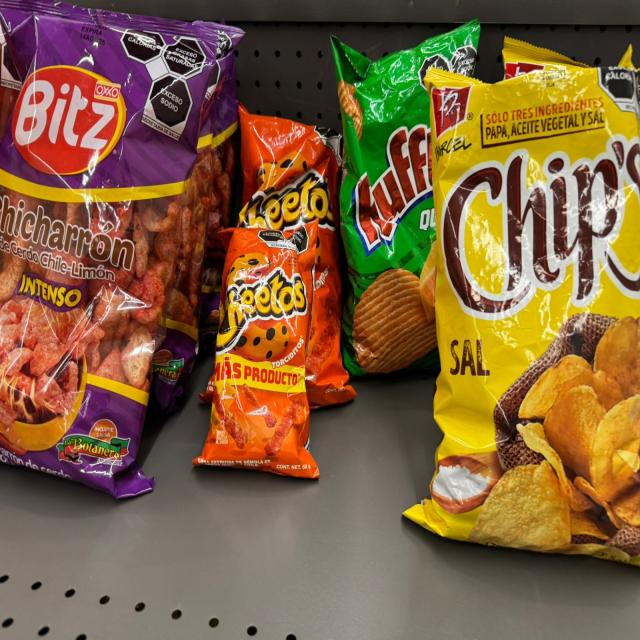CHEETOS TORCIDITOS 240GR: (190, 223, 323, 474)
Cheetos grandes: (238, 102, 361, 401)
Papas Chips Barcel 170 gr bolsa con sal: (394, 71, 640, 579), (503, 38, 637, 67)
RUFFLES QUESO 185GR: (332, 19, 482, 379)
chicharrones de cerdo intenso: (0, 0, 221, 494), (160, 24, 237, 418), (200, 108, 235, 333)
